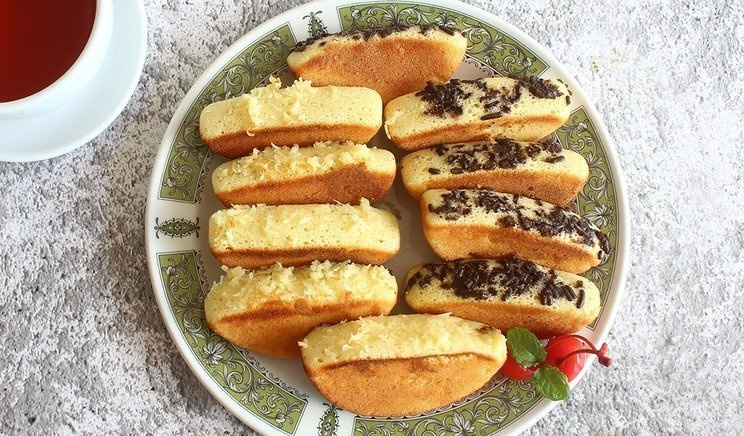pukis: (304, 311, 516, 427)
